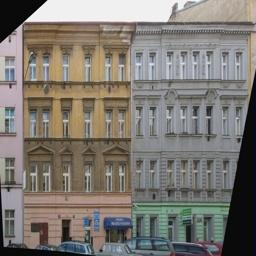building: (19, 0, 250, 247)
